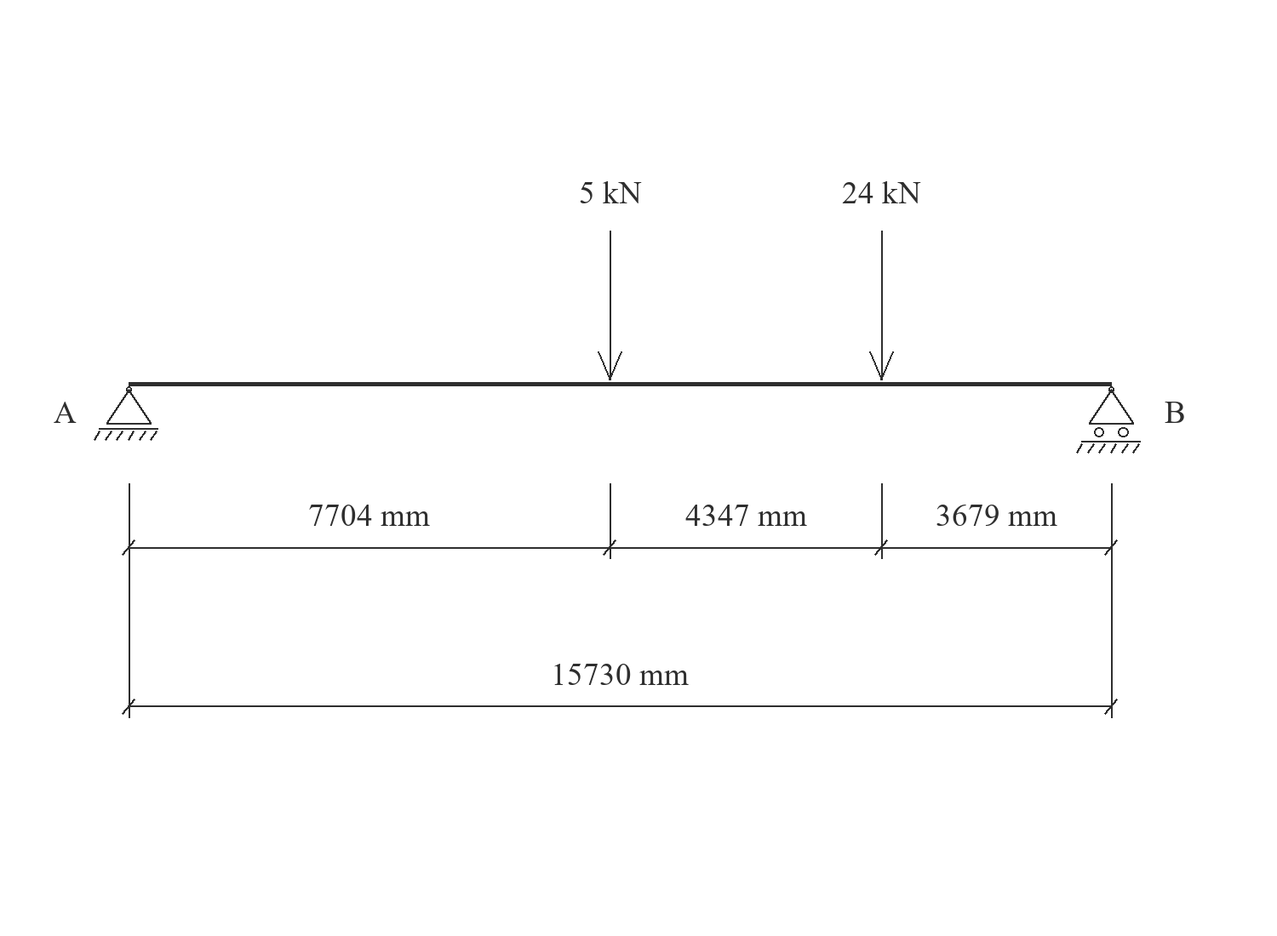pin_support: (94, 386, 158, 441)
point_load: (869, 231, 894, 380), (598, 231, 622, 380)
roller_support: (1076, 386, 1141, 454)
